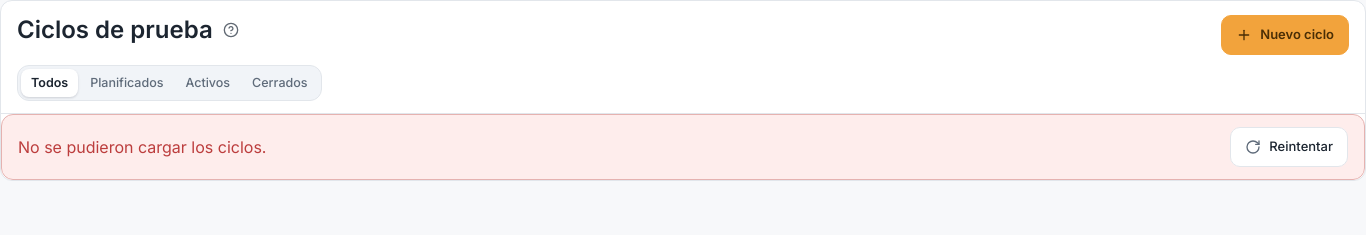
Test: Ciclos › says when the cycles cannot be read, and retries (NC-008, MAN-03)
Expected: the text "No se pudieron cargar los ciclos." is shown, [18,135,266,159]
Click the button "Reintentar" at point(1289, 147), box [1230,127,1348,167]
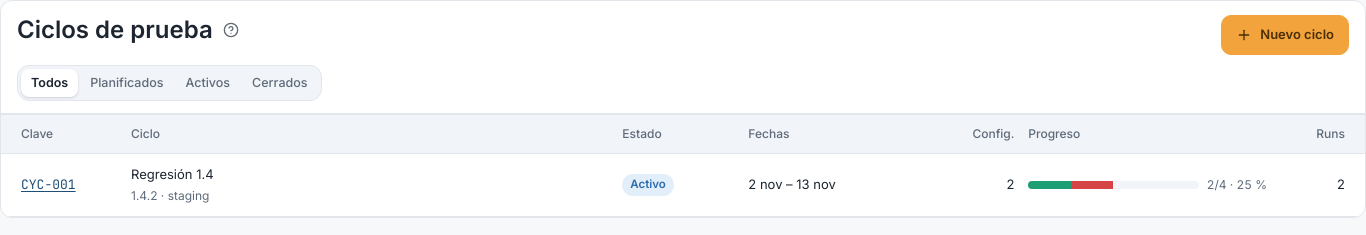
Expected: the table named "Ciclos del proyecto" is shown, [1,114,1365,216]
